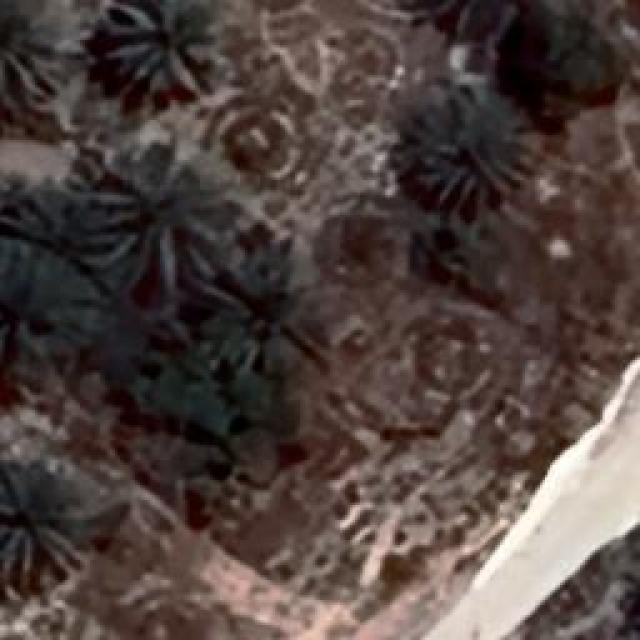PalmTree: (105, 26, 456, 110), (88, 140, 238, 290), (412, 88, 538, 208), (504, 0, 628, 109), (46, 110, 105, 312), (192, 268, 302, 370), (100, 0, 217, 92), (0, 460, 85, 578), (0, 0, 80, 123)
